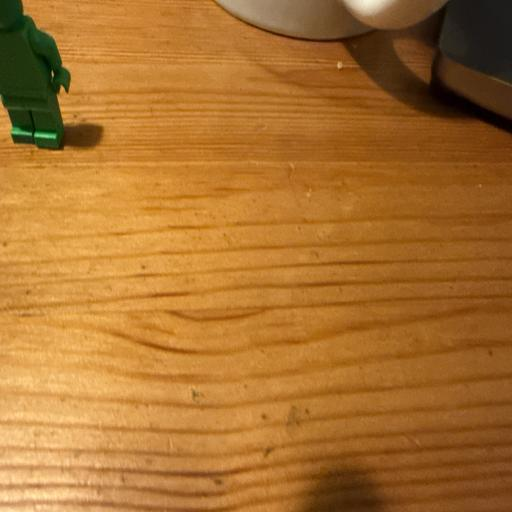Minifig: (0, 0, 70, 149)
